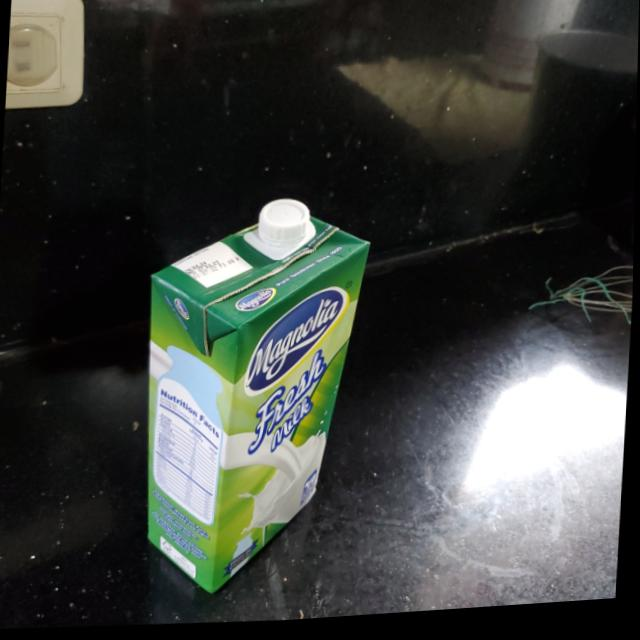milk: (135, 194, 377, 610)
